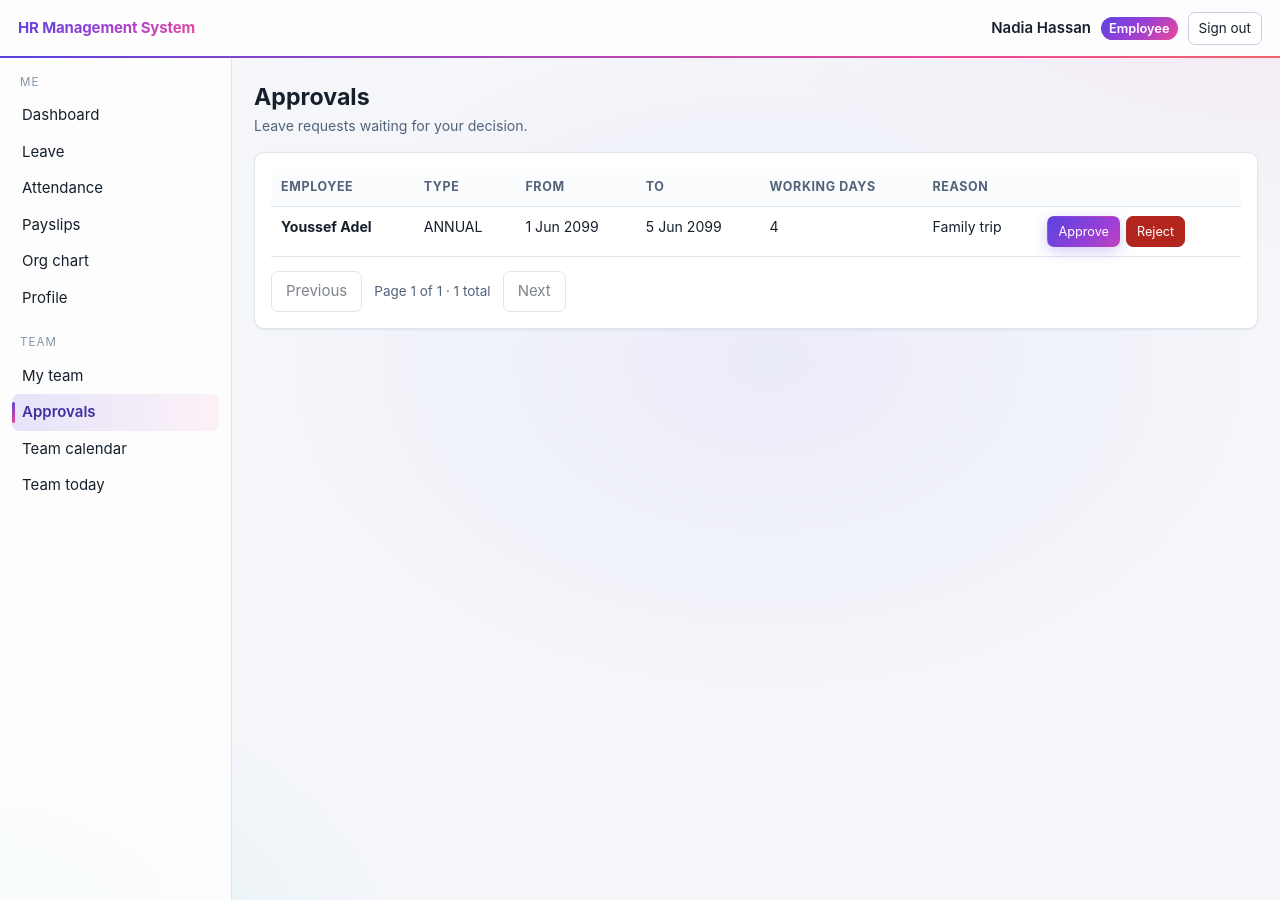
Test case: approvals › shows the server message when the decision conflicts with a 409
Click the button with aria-label "approve youssef adel" at (1084, 231), box [1048,216,1120,247]
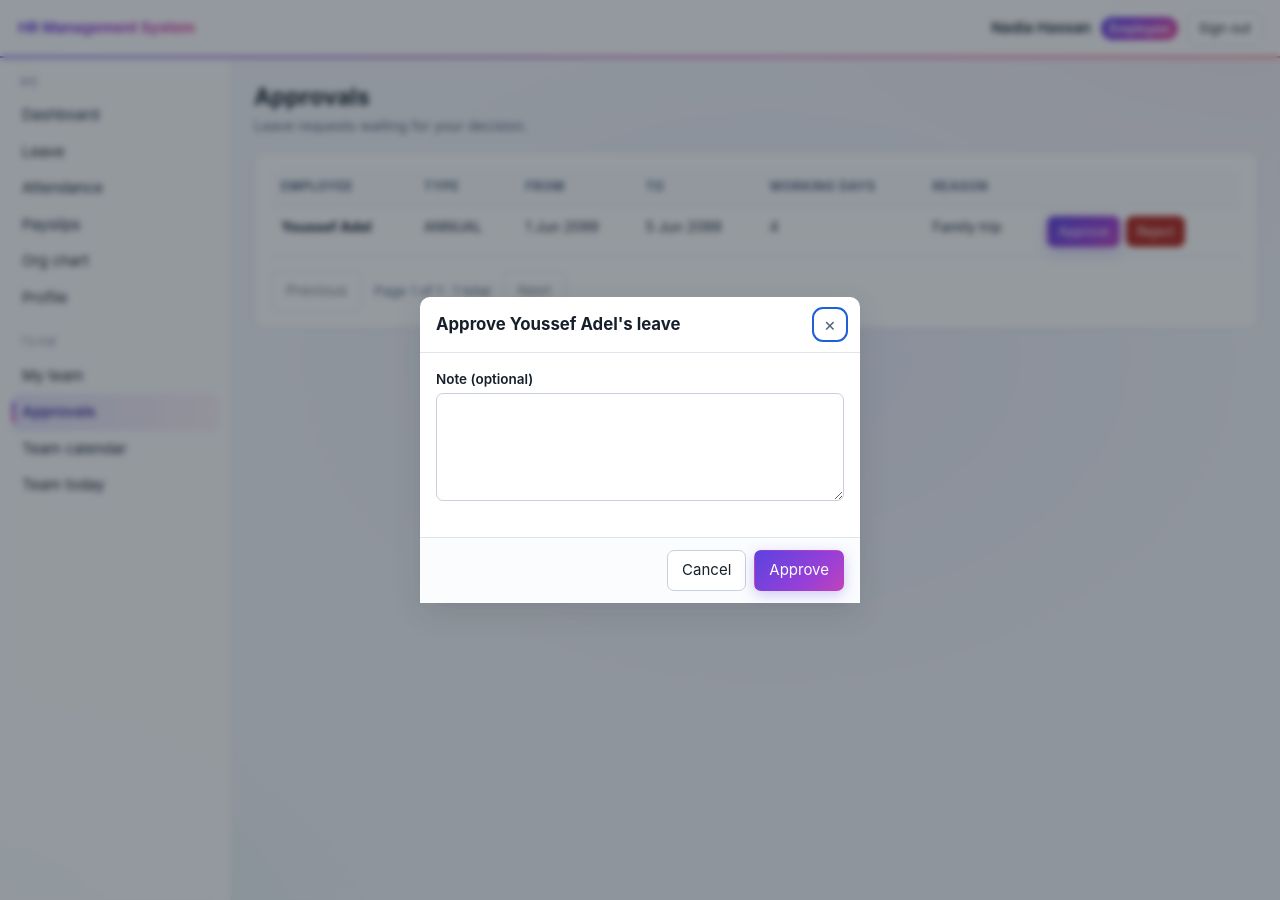
Click the button "Approve" at (799, 571), box [754,550,844,591]
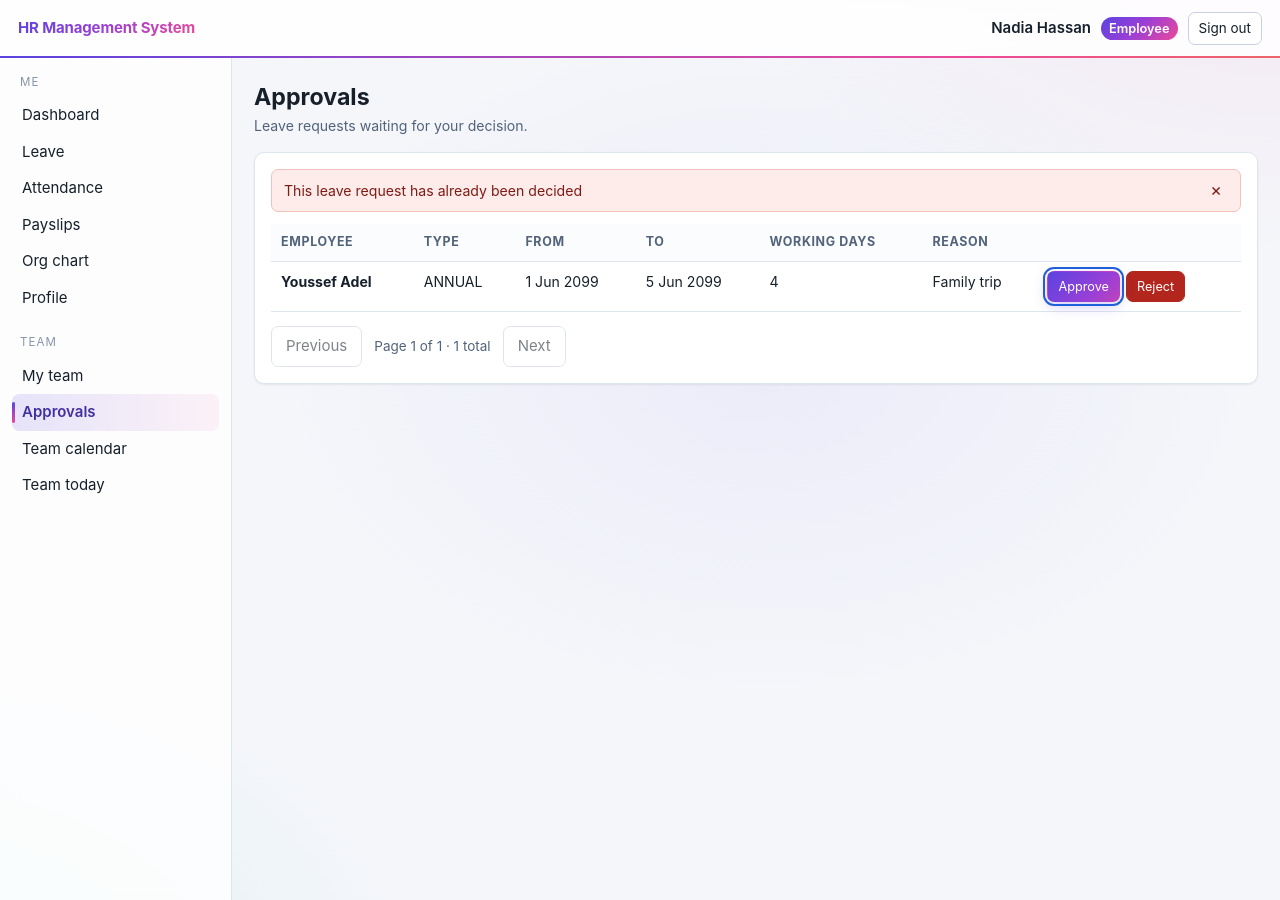
Check: the message shows "This leave request has already been decided", box [284,182,582,199]
